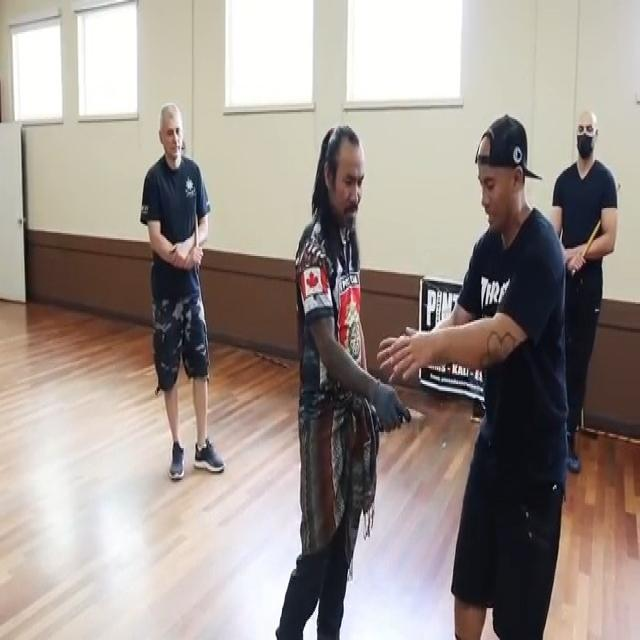Sharp-Object: (370, 407, 424, 439)
